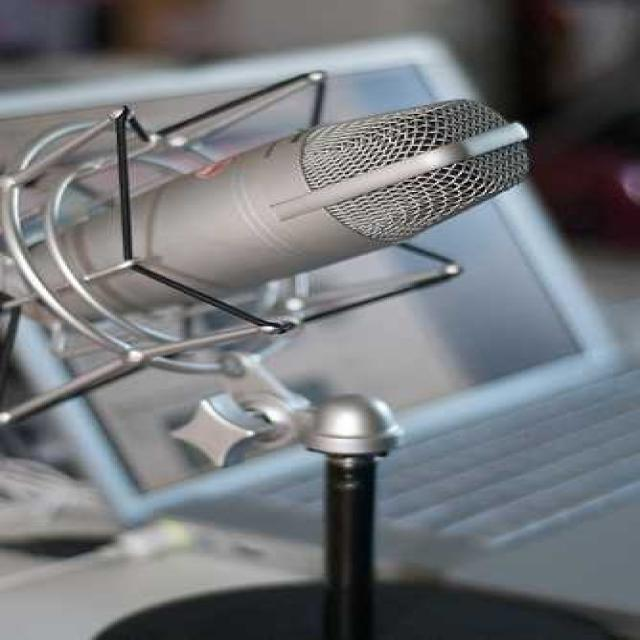microphone: (50, 86, 548, 303)
